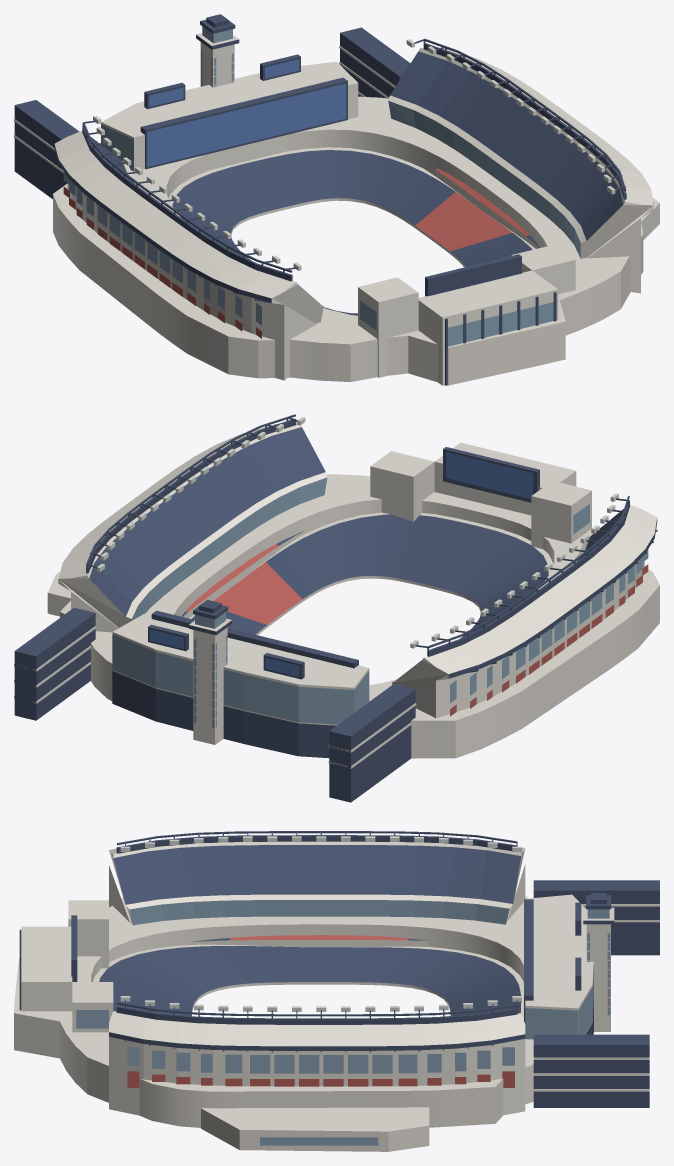
File: bos-gillette-stadium.glb
3 renders of one model, top to bottom at view 1: azimuth 30°, elevation 25°; view 2: azimuth 150°, elevation 25°; view 3: azimuth 270°, elevation 25°, orthographic. The views are drawn at different scales.
Parts seen in each view (by area): view 1: Gillette Stadium; view 2: Gillette Stadium; view 3: Gillette Stadium.
Boxes of the visible parts, box(x1,y1,x2,y2) form: Gillette Stadium: box(14, 14, 659, 385); Gillette Stadium: box(14, 414, 659, 802); Gillette Stadium: box(14, 831, 659, 1151).
Size of the model in its own units: 272 by 70.5 by 317.
